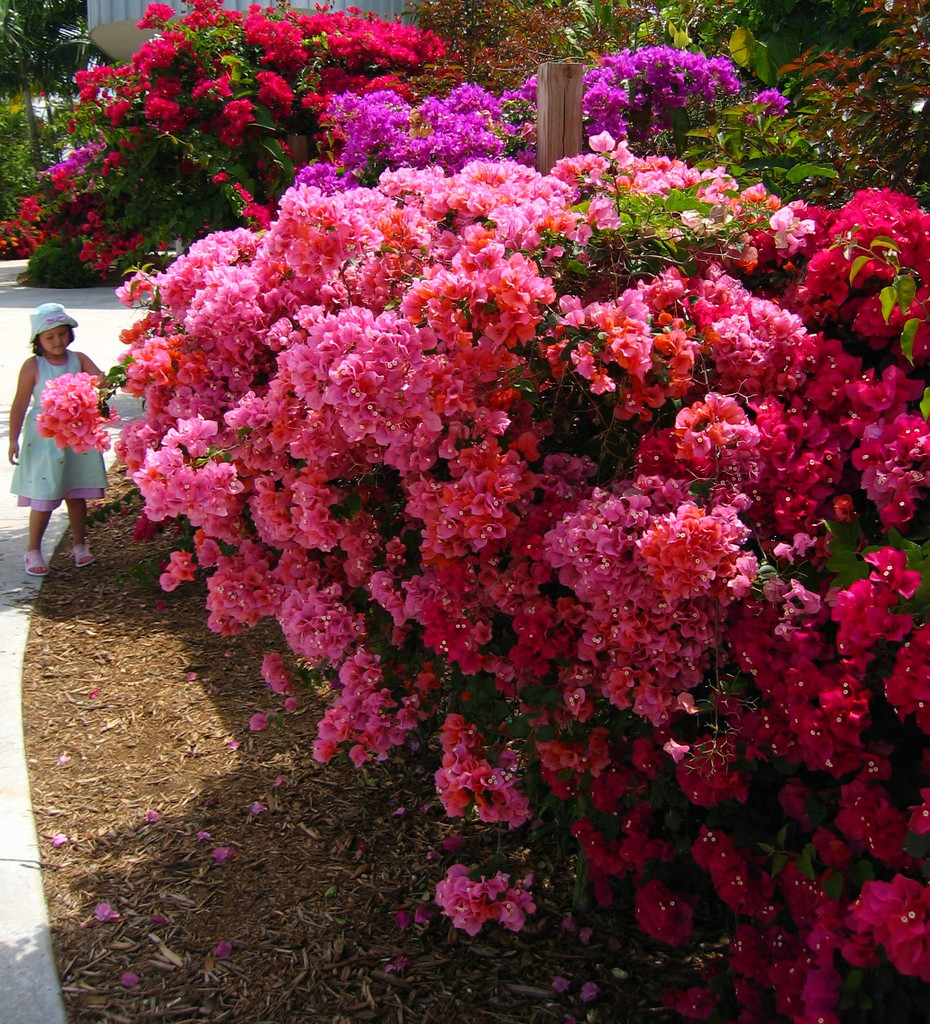person: (6, 300, 113, 576)
